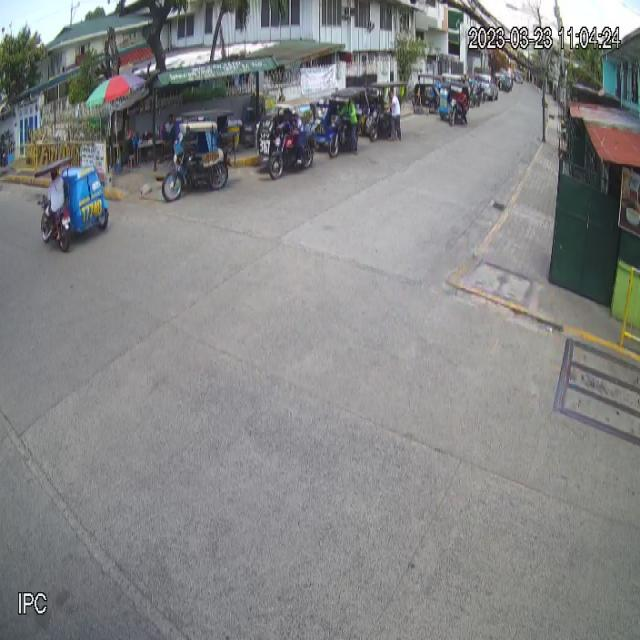Tricycle: (34, 156, 110, 253), (161, 108, 237, 205)
